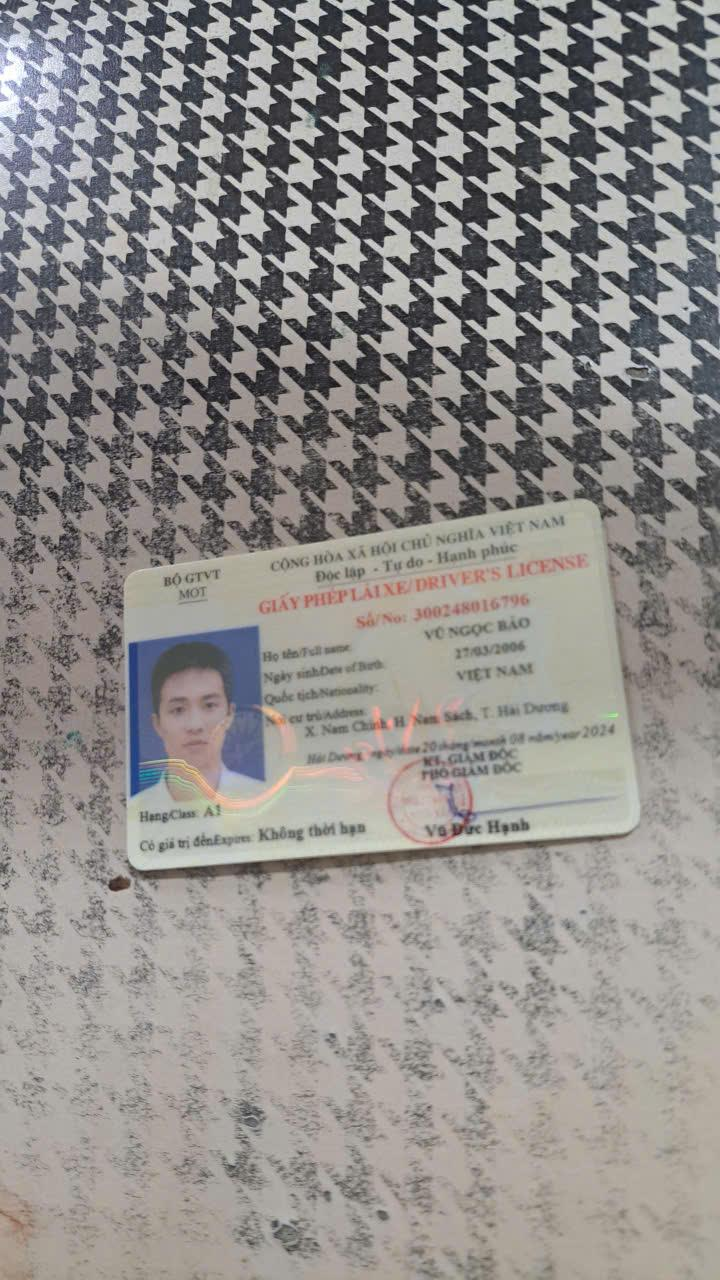gplx: (118, 493, 646, 880)
